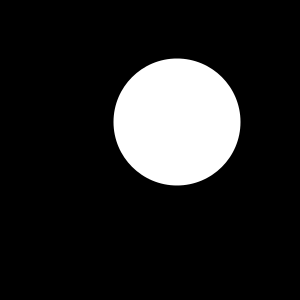rectangle: (113, 58, 240, 186), (154, 98, 204, 148)
